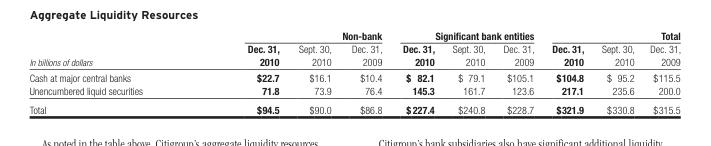table: (28, 28, 680, 115)
table column: (28, 28, 194, 115), (194, 28, 288, 115), (288, 28, 340, 115), (340, 28, 391, 115), (391, 28, 442, 115), (442, 28, 493, 115), (542, 28, 592, 115), (493, 28, 542, 115), (592, 28, 641, 115), (641, 28, 680, 115)
table column header: (28, 28, 680, 69)
table row: (28, 41, 680, 69), (28, 83, 680, 99), (28, 99, 680, 115), (28, 69, 680, 83), (28, 28, 680, 41)
table spanning cell: (28, 28, 194, 69), (194, 28, 391, 41), (391, 28, 542, 41), (542, 28, 680, 41)
